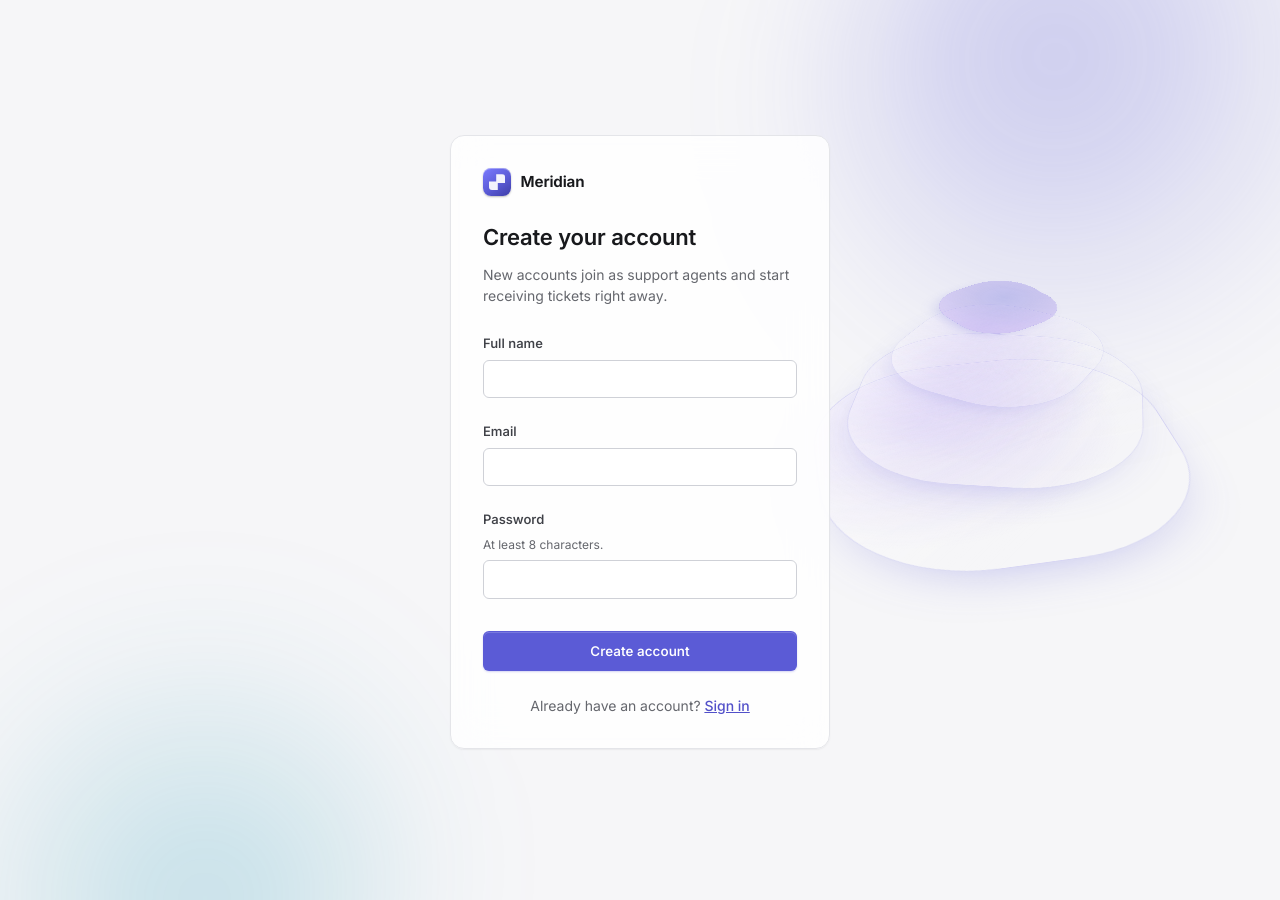
Test: SignupPage › surfaces a 409 duplicate-email conflict and links back to sign-in
The image size is (1280, 900).
Type "Dup" into the field labelled "Full name".
click(640, 379); type("Dup")  # box [483,360,797,398]
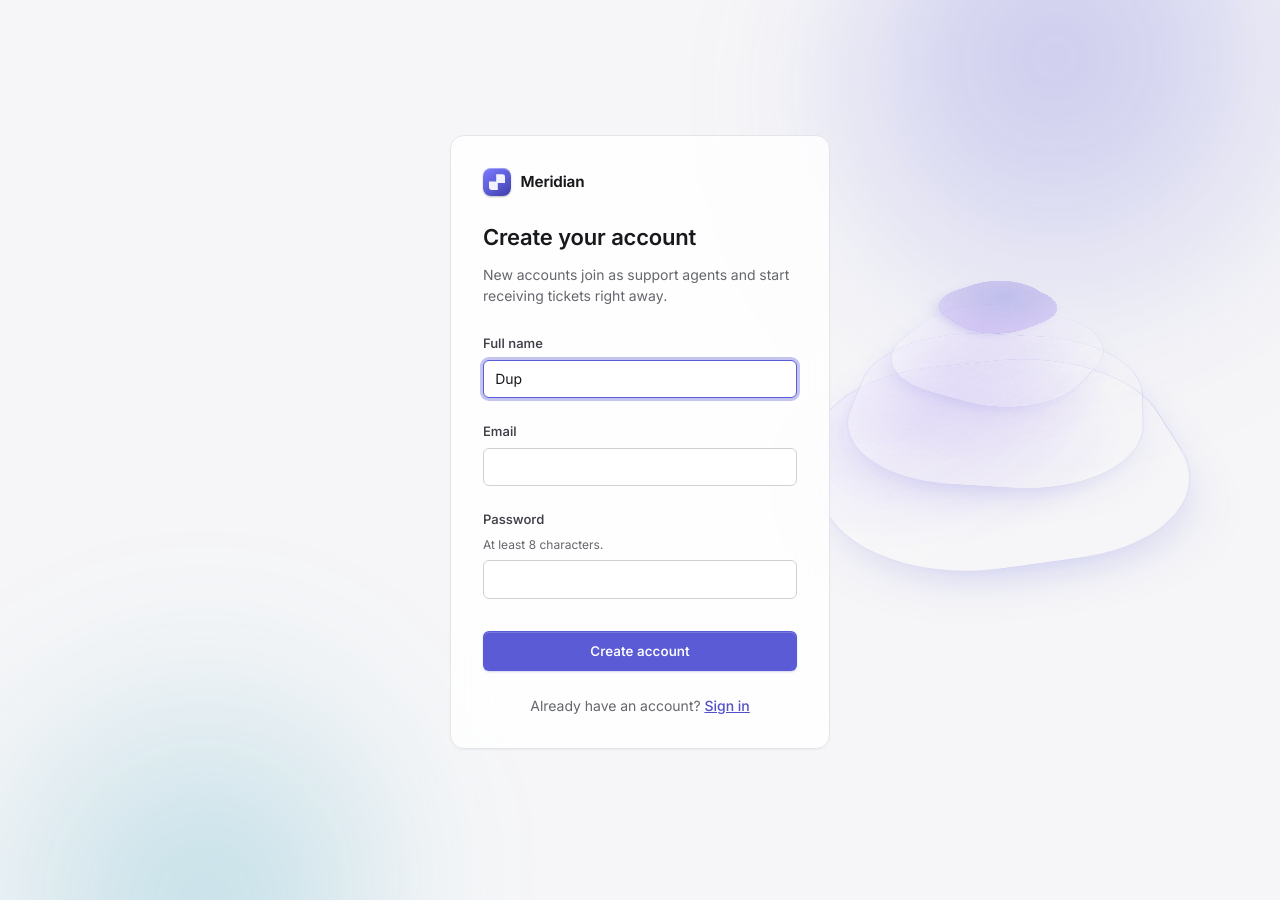
Type "dup@meridian.local" into the field labelled "Email".
click(640, 467); type("dup@meridian.local")  # box [483,448,797,486]
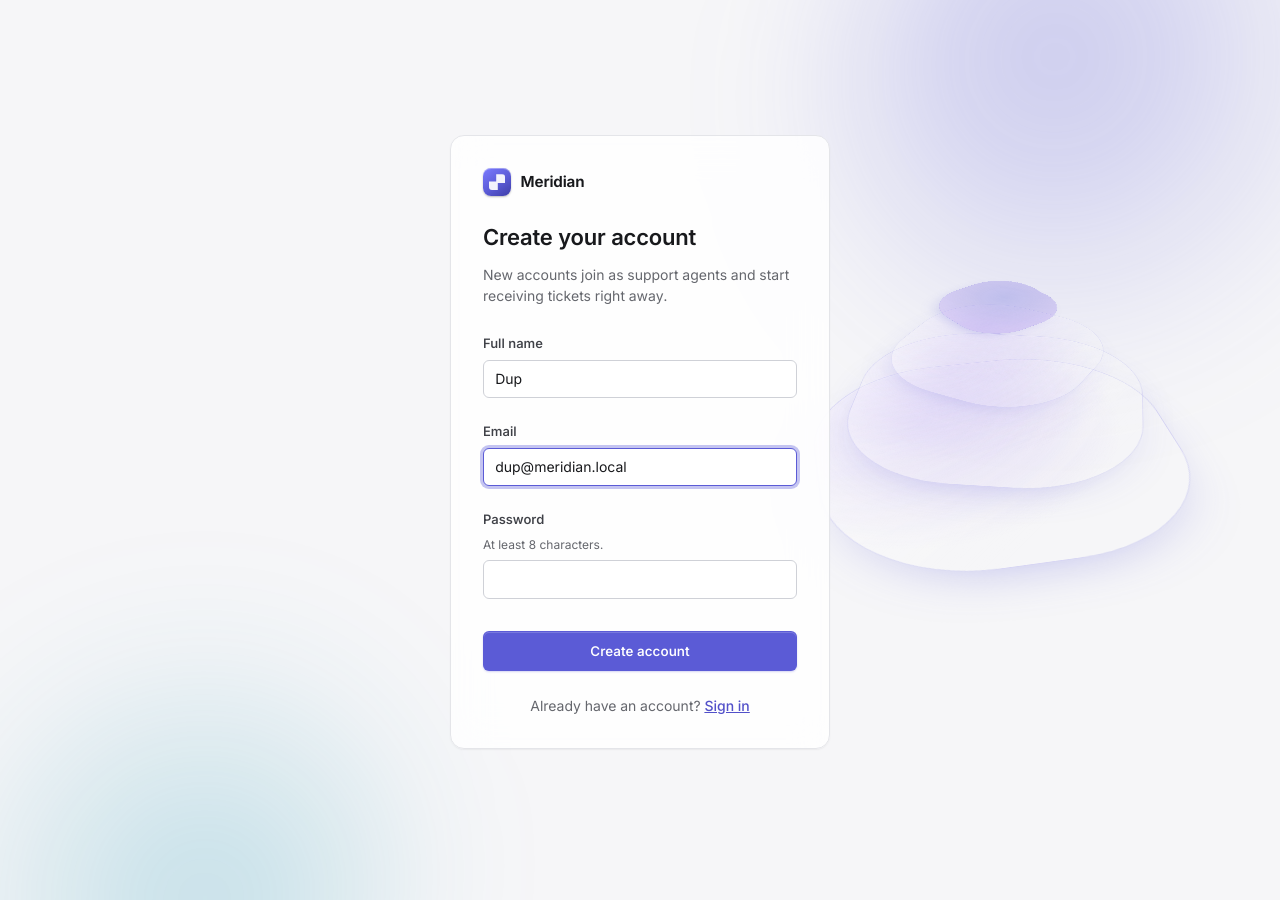
Type "password123" into the password field labelled "Password At least 8 characters.".
click(640, 580); type("password123")  # box [483,560,797,599]
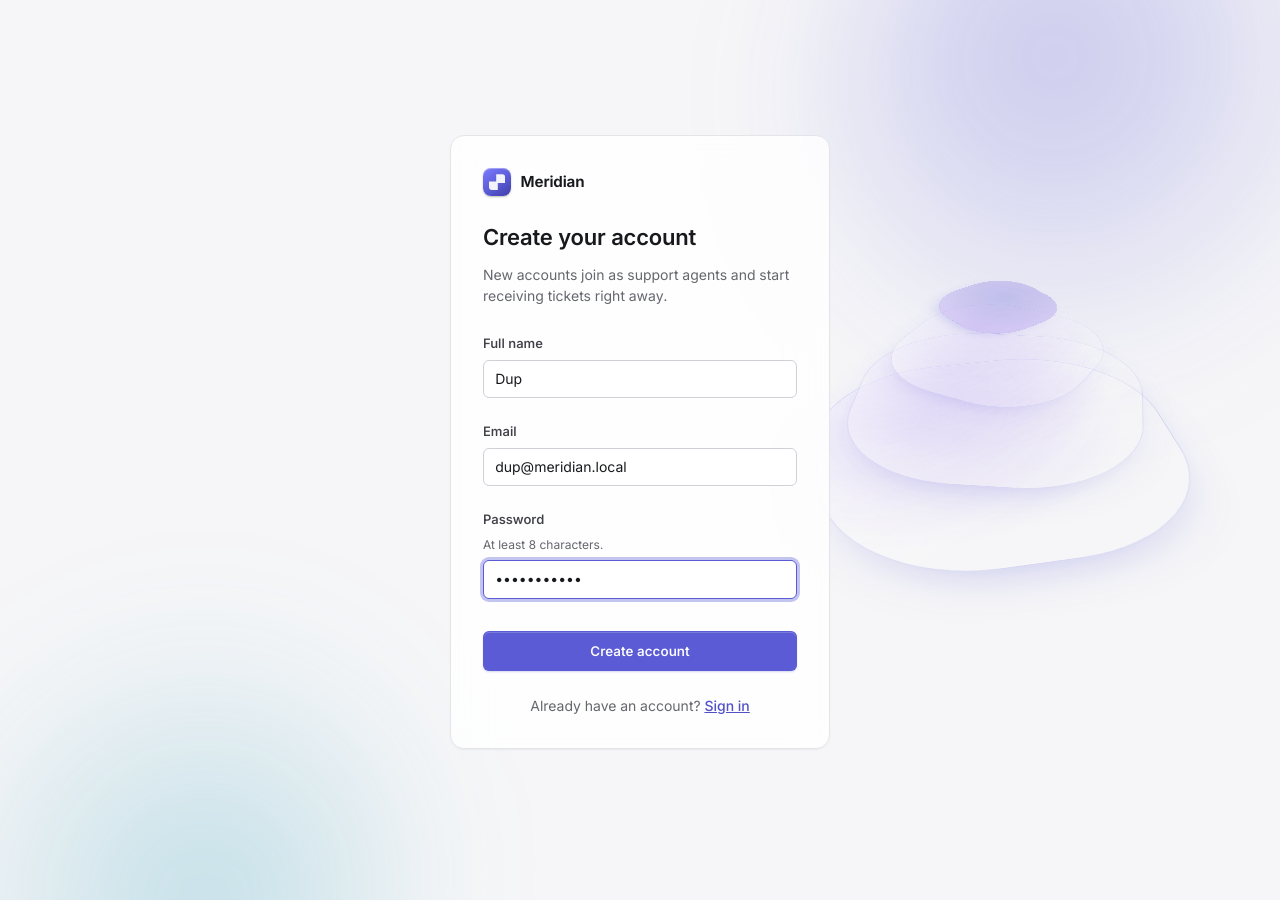
Click the button "Create account".
click(640, 651)  # box [483,631,797,671]
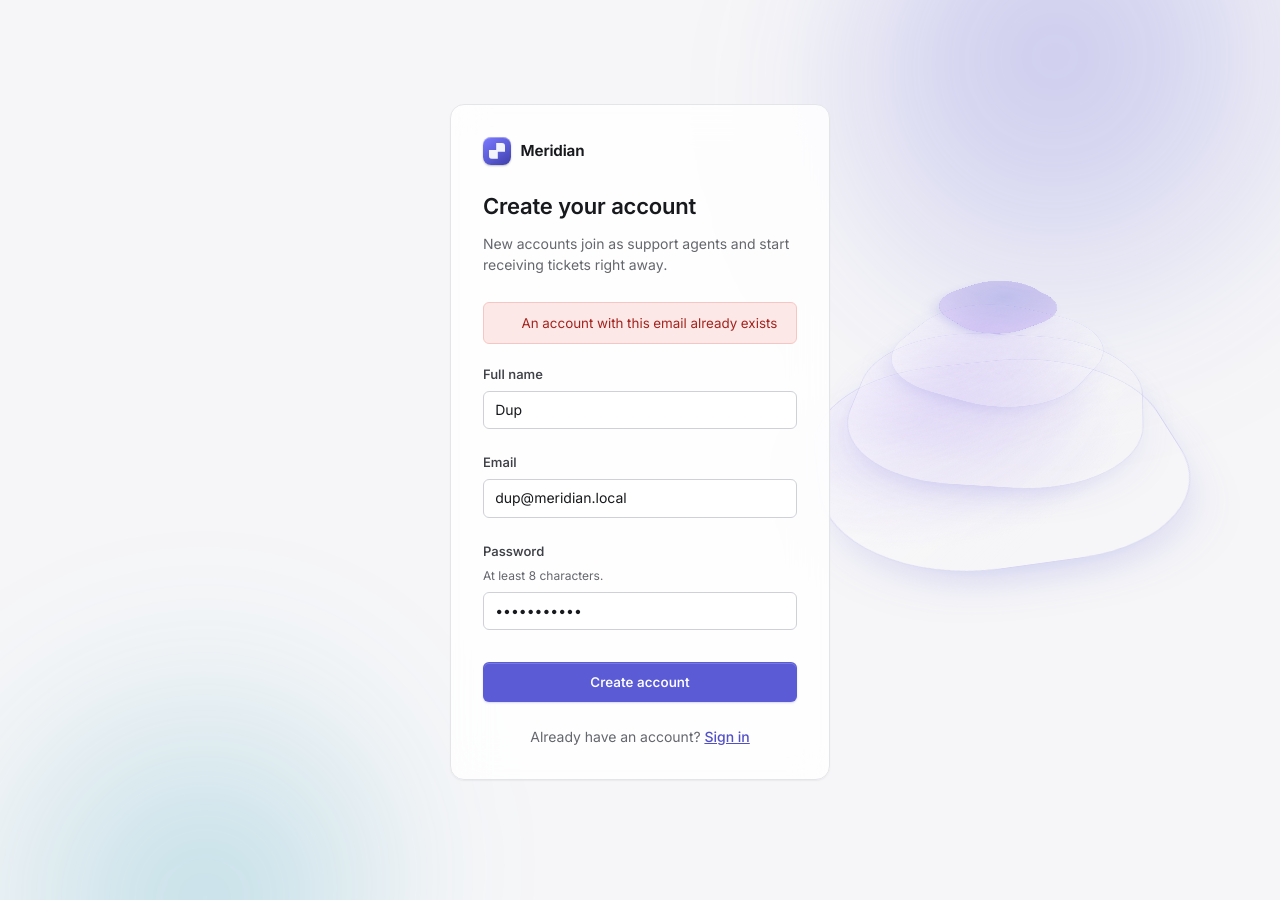
Check: the message shows "already exists", box [522,315,777,331]
